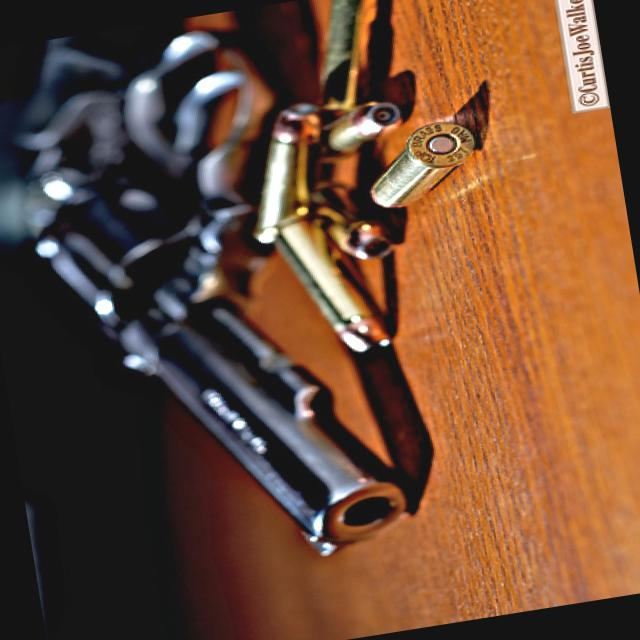handgun: (0, 15, 424, 599)
